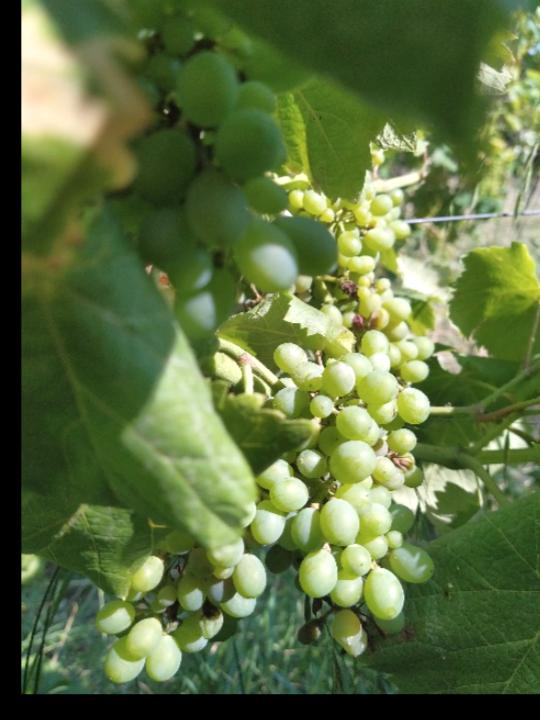grape: (93, 296, 437, 689)
